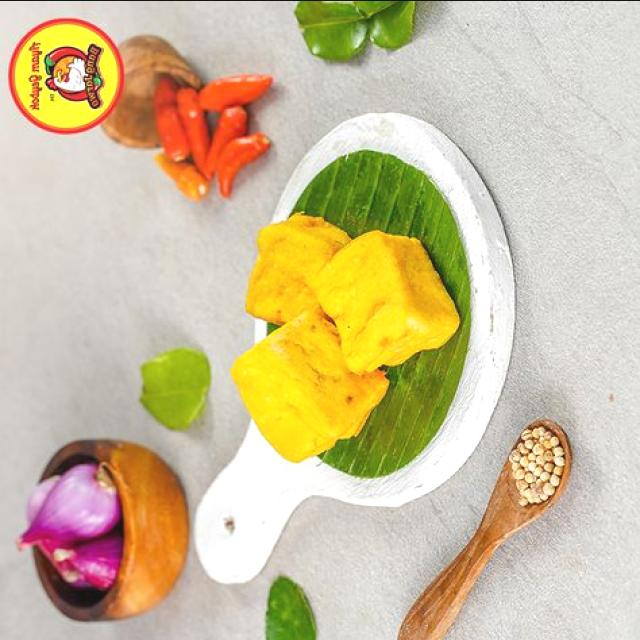tahu goreng: (232, 298, 393, 462), (306, 230, 462, 375), (247, 212, 354, 324)
